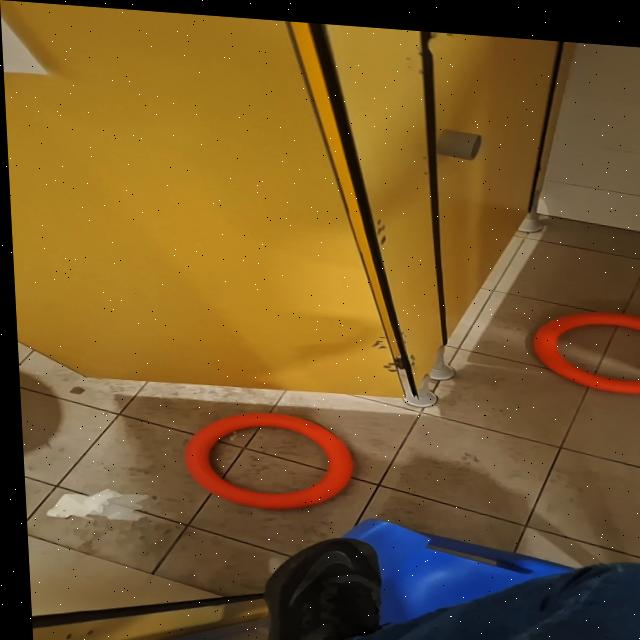note: (177, 403, 353, 512), (527, 297, 640, 386)
